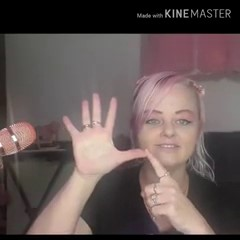A: (57, 91, 200, 236)
